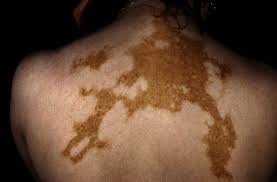vitiligo: (50, 14, 251, 172)
